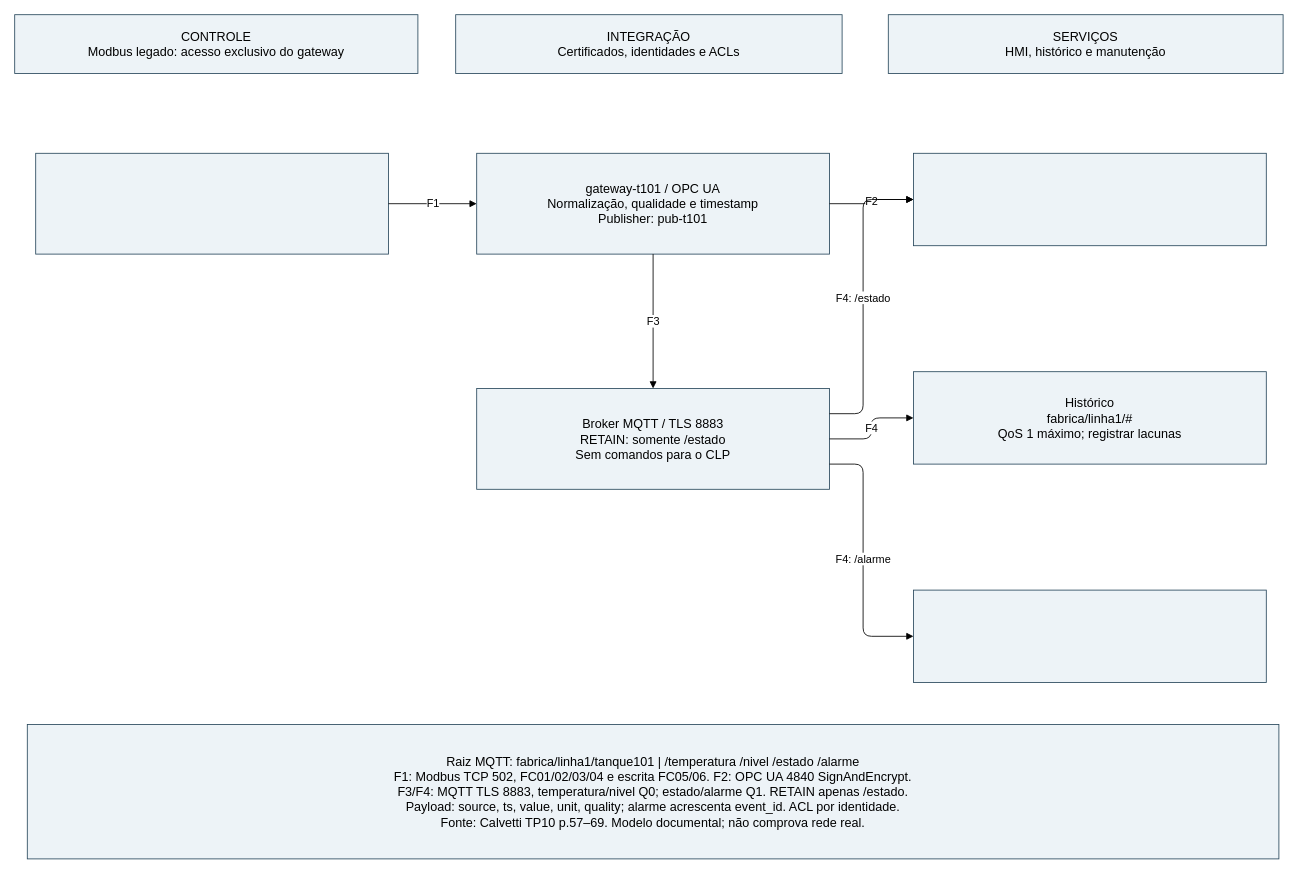
This 1298x874 diagram has some shape labels left out. The shapes that lost their labels are listed below. From the top down, each one's centre as x and y in pixels, then its label:
[211,203]: T-101 / servidor Modbus P101_CMD, P101_RUN, LT101_RAW SP_NIVEL, TEMP_REAL
[1089,199]: HMI MQTT: /estado, QoS 1 OPC UA: leitura; operador R/W
[1089,635]: Manutenção MQTT: /alarme, QoS 1 Deduplicação por event_id
